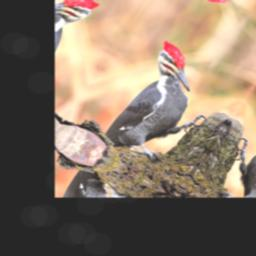Woodpecker: (97, 39, 238, 176)
